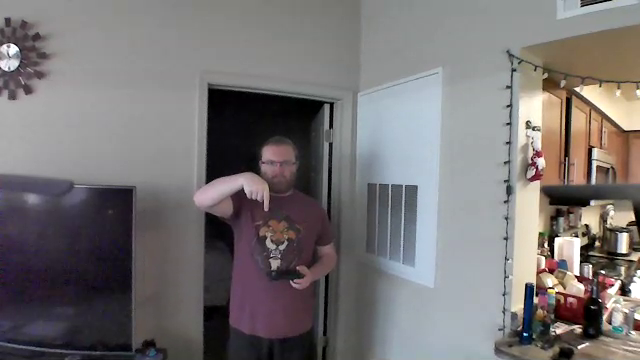down: (239, 167, 271, 214)
